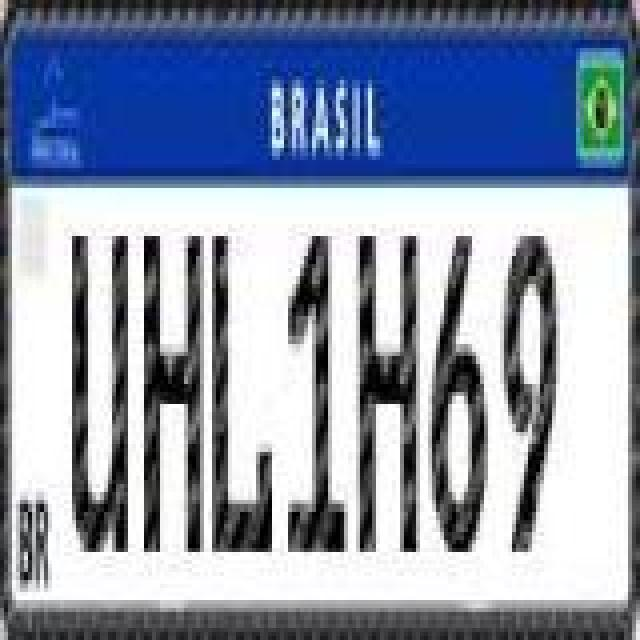1: (282, 230, 350, 554)
6: (424, 224, 488, 560)
9: (496, 224, 560, 560)
H: (356, 224, 420, 560), (144, 238, 208, 562)
L: (208, 238, 272, 562)
U: (68, 230, 132, 554)
